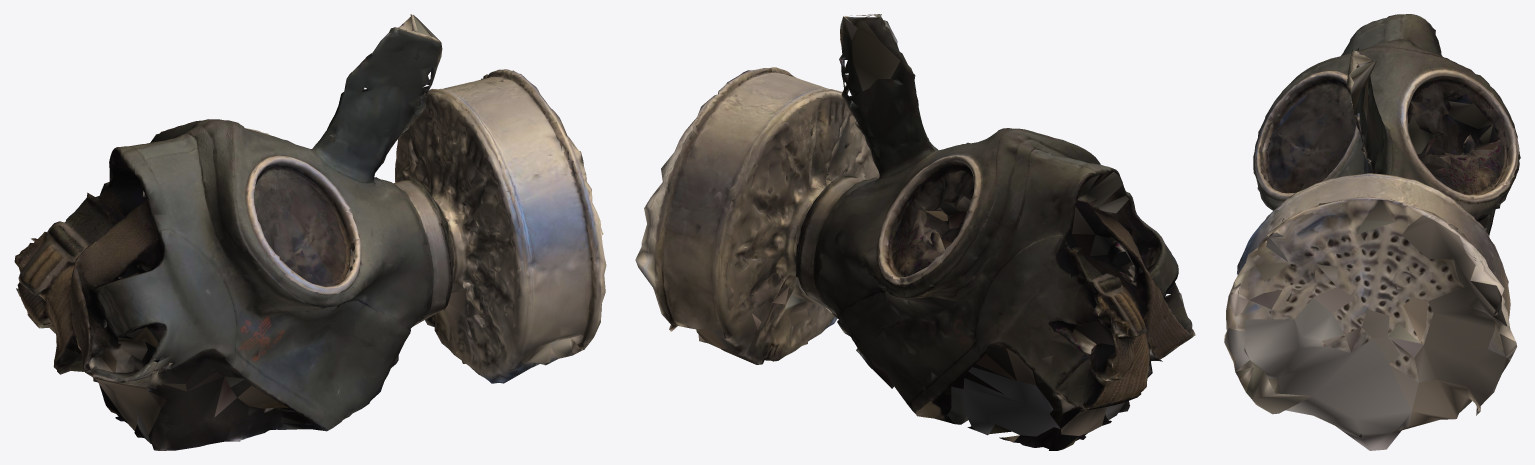
The model's file is maskWw2.glb.
3 renders of one model, left to right at view 1: azimuth 30°, elevation 25°; view 2: azimuth 150°, elevation 25°; view 3: azimuth 270°, elevation 25°, orthographic. The views are drawn at different scales.
Parts seen in each view (by area): view 1: Mesh_0_Part_0.001; view 2: Mesh_0_Part_0.001; view 3: Mesh_0_Part_0.001.
Boxes of the visible parts, x1,y1,x2,y2 form: Mesh_0_Part_0.001: [14, 14, 606, 450]; Mesh_0_Part_0.001: [635, 14, 1195, 450]; Mesh_0_Part_0.001: [1224, 14, 1520, 450].
Size of the model in its own units: 0.2405 by 0.1672 by 0.1351.
1 material, 1 textured.
